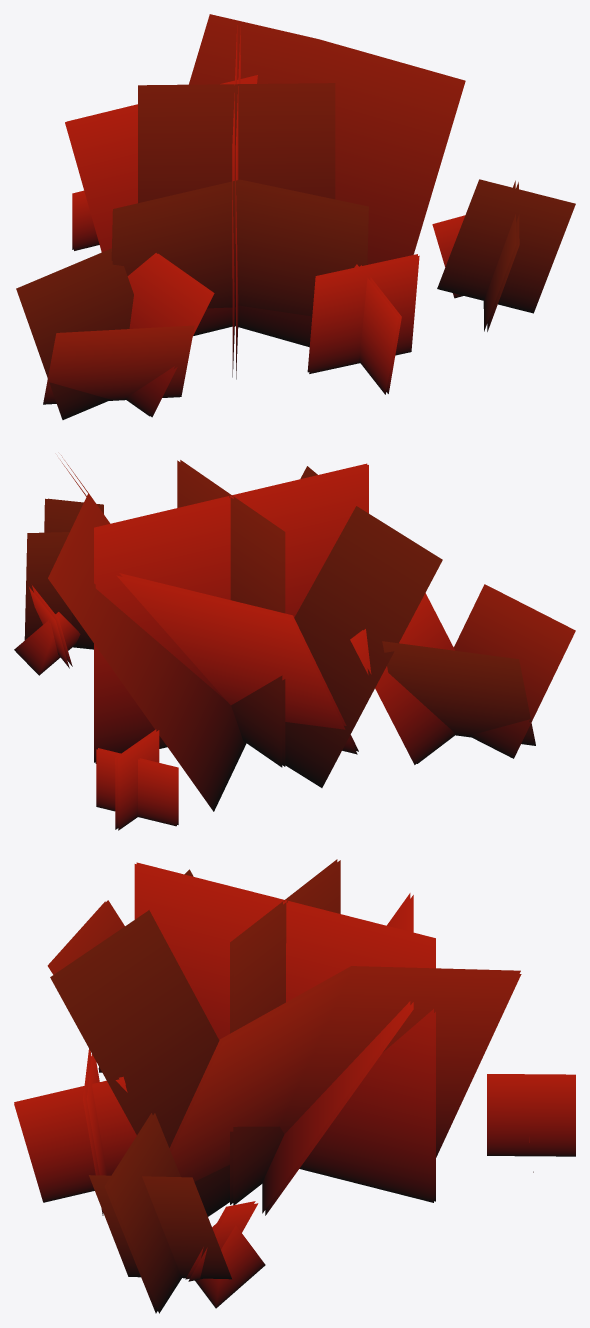
File: Grass06_high.FBX
3 views of the same model, one above another, from view 1: azimuth 30°, elevation 25°; view 2: azimuth 150°, elevation 25°; view 3: azimuth 270°, elevation 25° (orthographic). The views are drawn at different scales.
Visible parts, largest first — view 1: Grass06_high; view 2: Grass06_high; view 3: Grass06_high.
Part boxes in pixels (box(x1,y1,x2,y2)): Grass06_high: box(16, 14, 575, 419); Grass06_high: box(14, 455, 575, 830); Grass06_high: box(14, 859, 575, 1313).
Size of the model in its own units: 0.7067 by 0.3283 by 0.5806.
